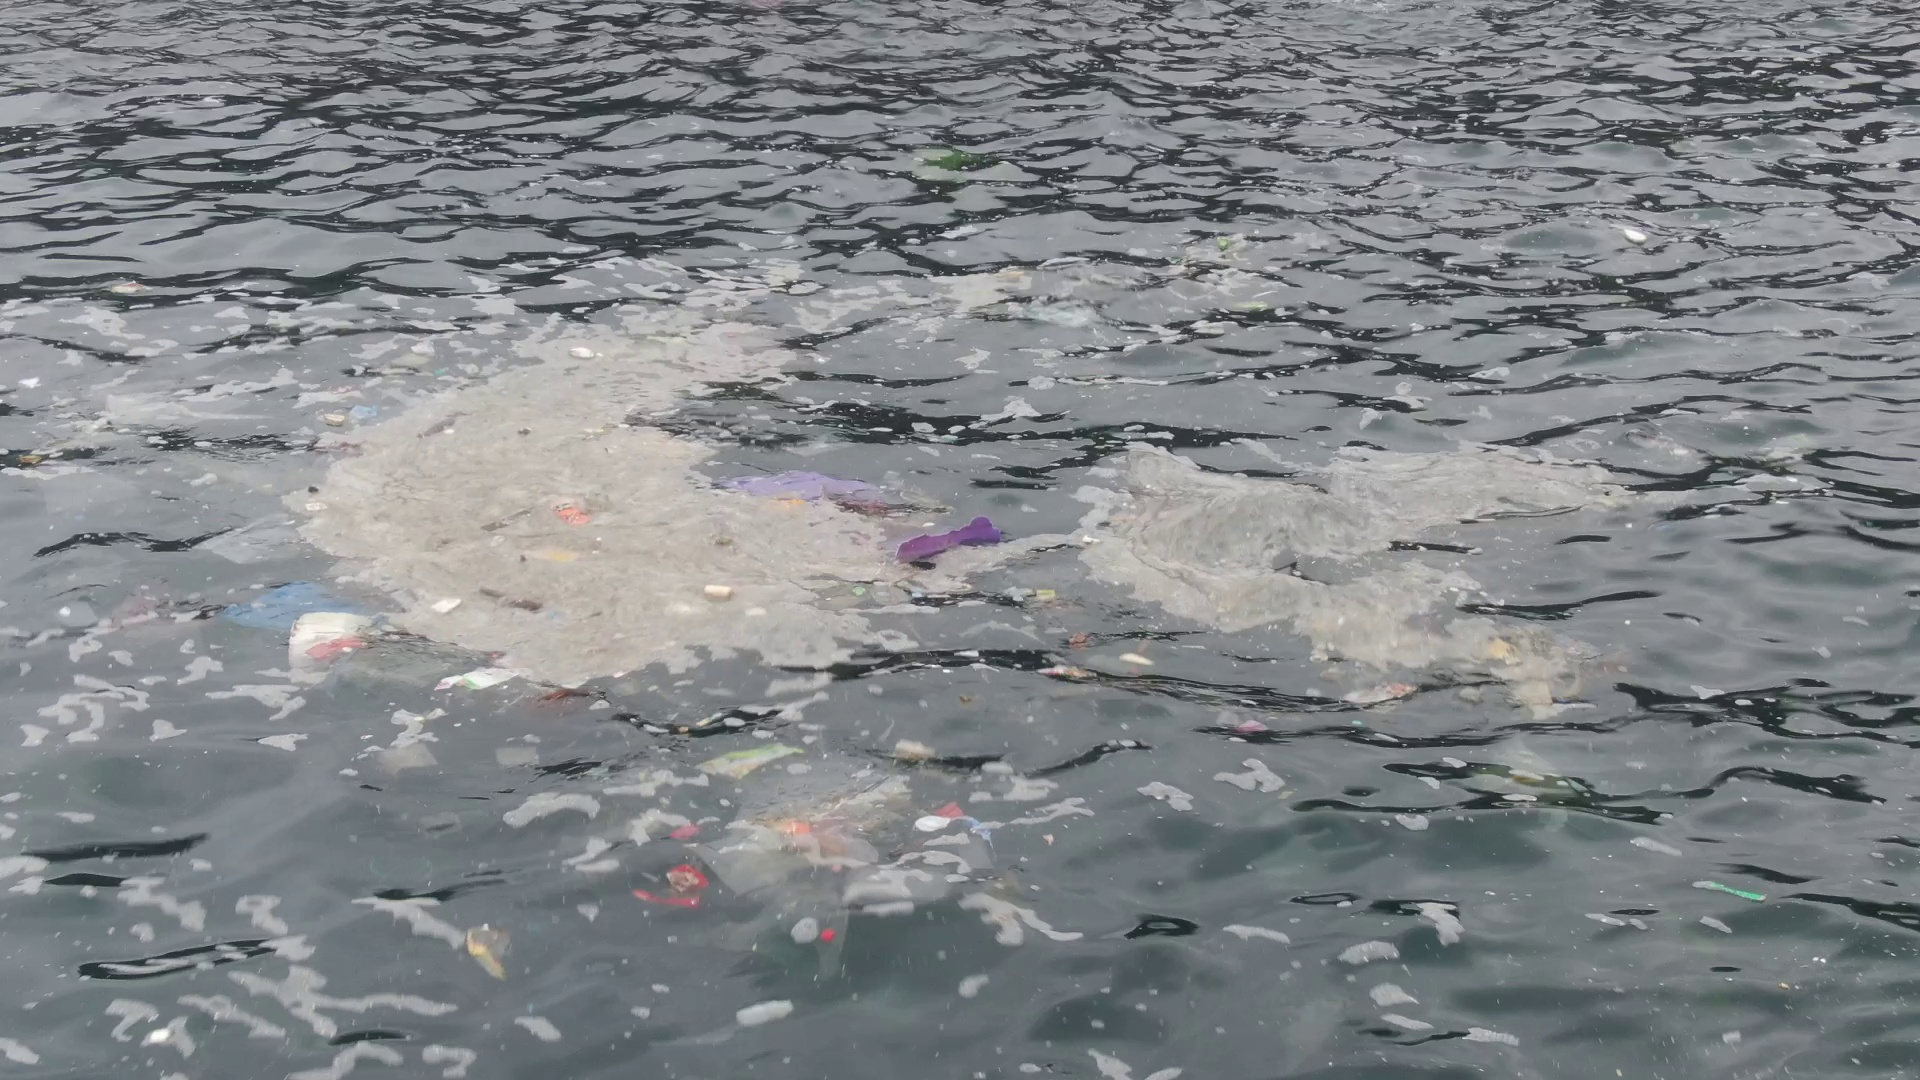garbage: (210, 401, 1023, 728), (634, 819, 708, 906), (771, 814, 882, 869), (694, 742, 804, 775), (1695, 866, 1774, 909), (465, 919, 516, 976), (1043, 630, 1091, 684), (1215, 704, 1271, 741), (926, 803, 971, 825), (1621, 225, 1648, 244)
